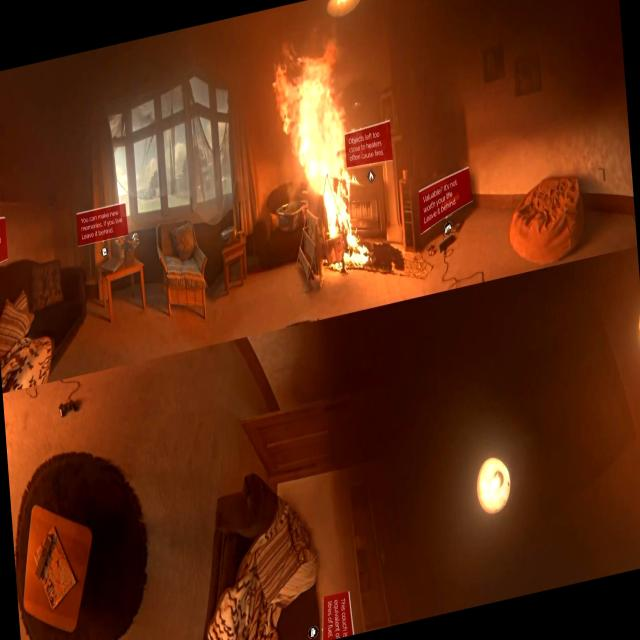fire: (267, 29, 368, 272)
